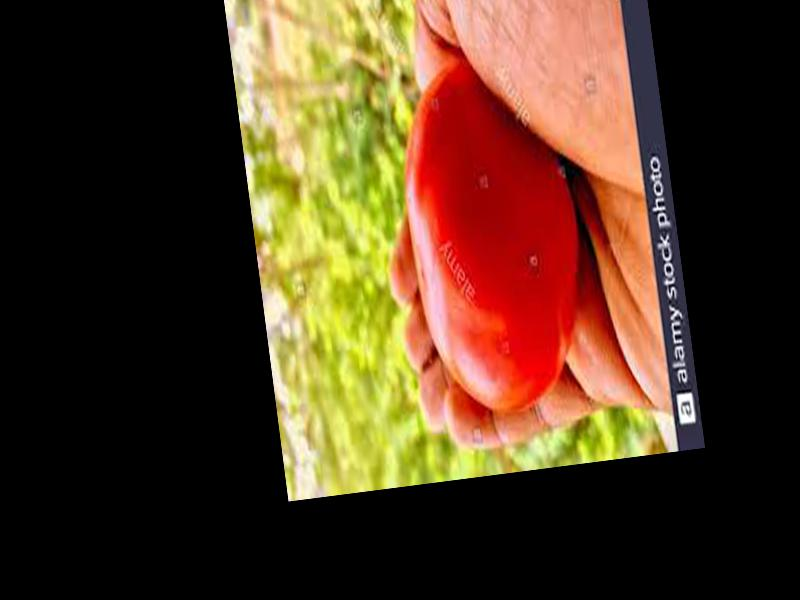Tomato: (392, 55, 597, 419)
